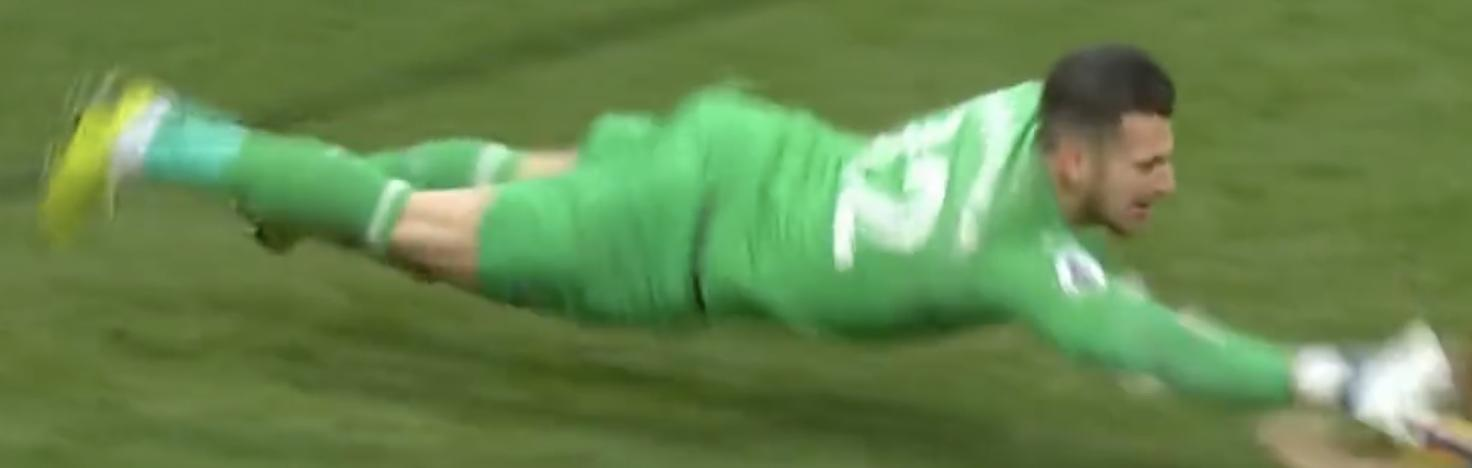goalkeeper: (25, 17, 1472, 468)
